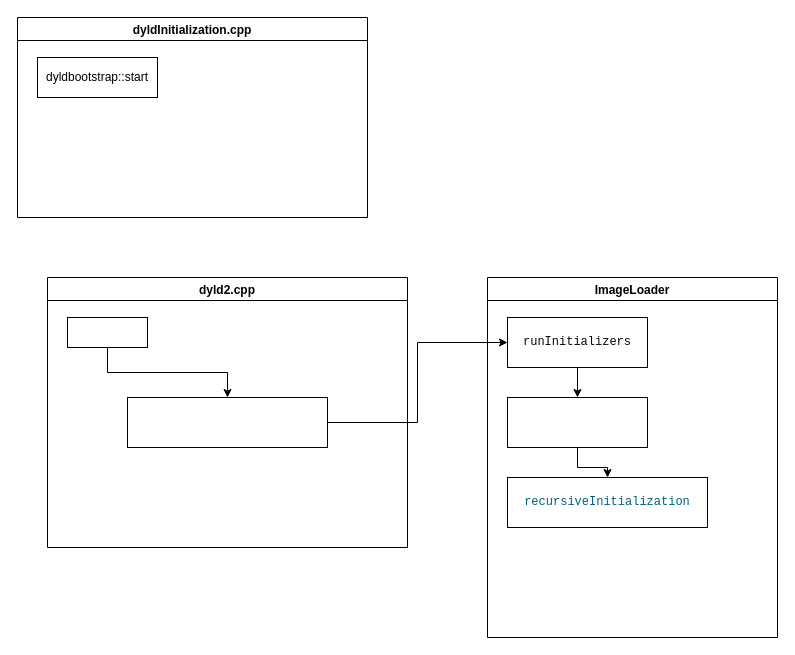
Image size: 795x655. Some labels were removed from this diagram. Each missing label, with the centre of its shape:
"_main" goes at point 107,332.
"initializeMainExecutable" goes at point 227,422.
"processInitializers" goes at point 577,422.
